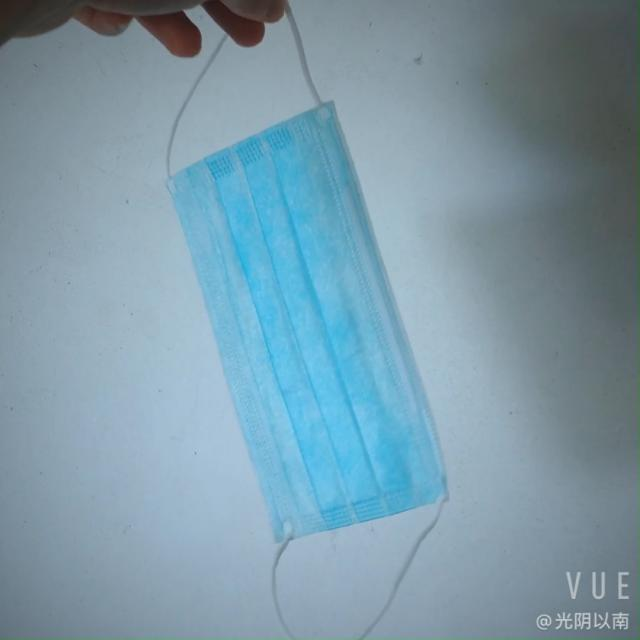non-organic waste: (157, 114, 437, 512)
